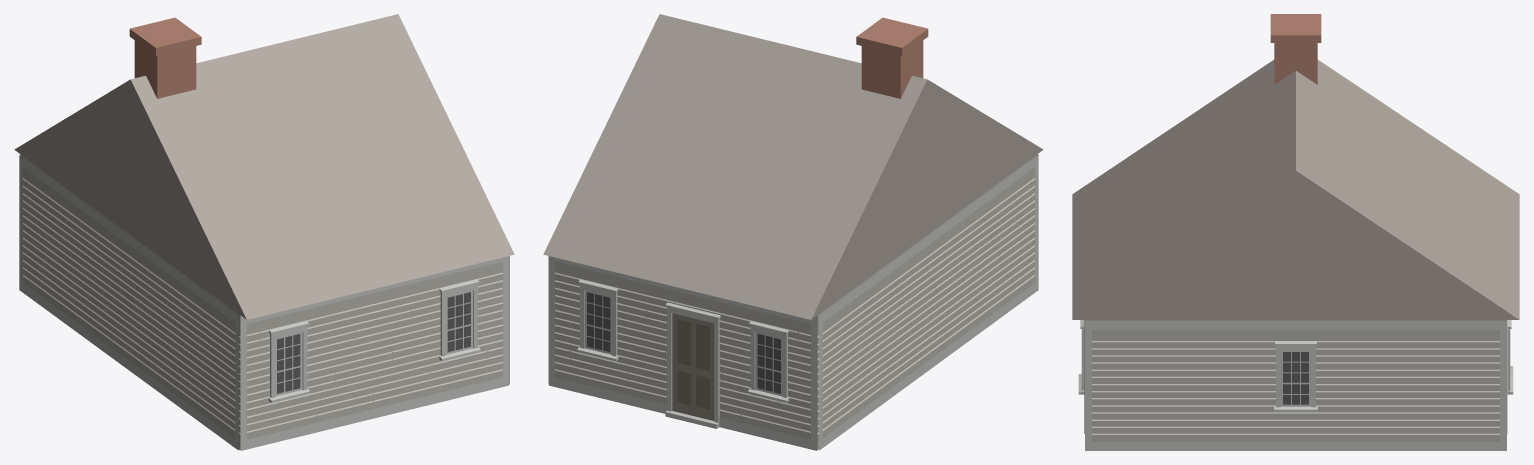
File: recon_1835_north_d4_012__inferred_1835.glb
3 renders of one model, left to right at view 1: azimuth 30°, elevation 25°; view 2: azimuth 150°, elevation 25°; view 3: azimuth 270°, elevation 25°, orthographic. The views are drawn at different scales.
Visible parts, largest first — view 1: recon_1835_north_d4_012__inferred_1835; view 2: recon_1835_north_d4_012__inferred_1835; view 3: recon_1835_north_d4_012__inferred_1835.
Boxes of the visible parts, left/top/right/bottom form: recon_1835_north_d4_012__inferred_1835: left=14, top=14, right=514, bottom=450; recon_1835_north_d4_012__inferred_1835: left=543, top=14, right=1043, bottom=450; recon_1835_north_d4_012__inferred_1835: left=1072, top=14, right=1519, bottom=450.
Bounding box in the file's own units: 5.9 × 6.74 × 8.64.
